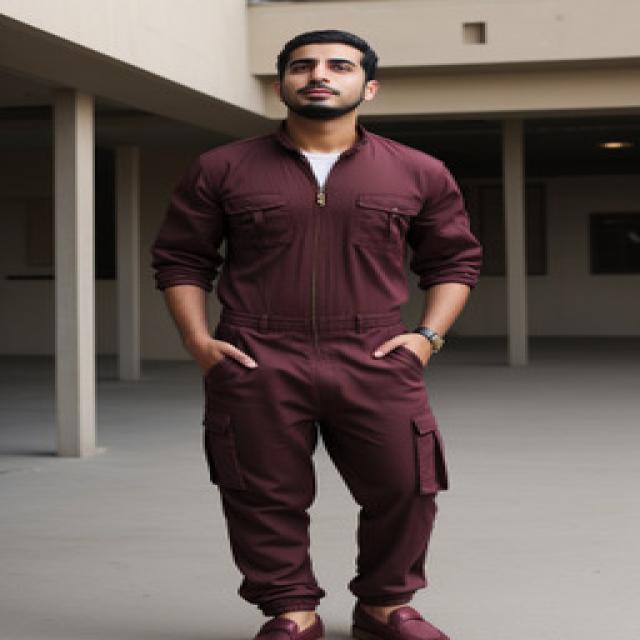Ai human 2: (137, 23, 518, 640)
